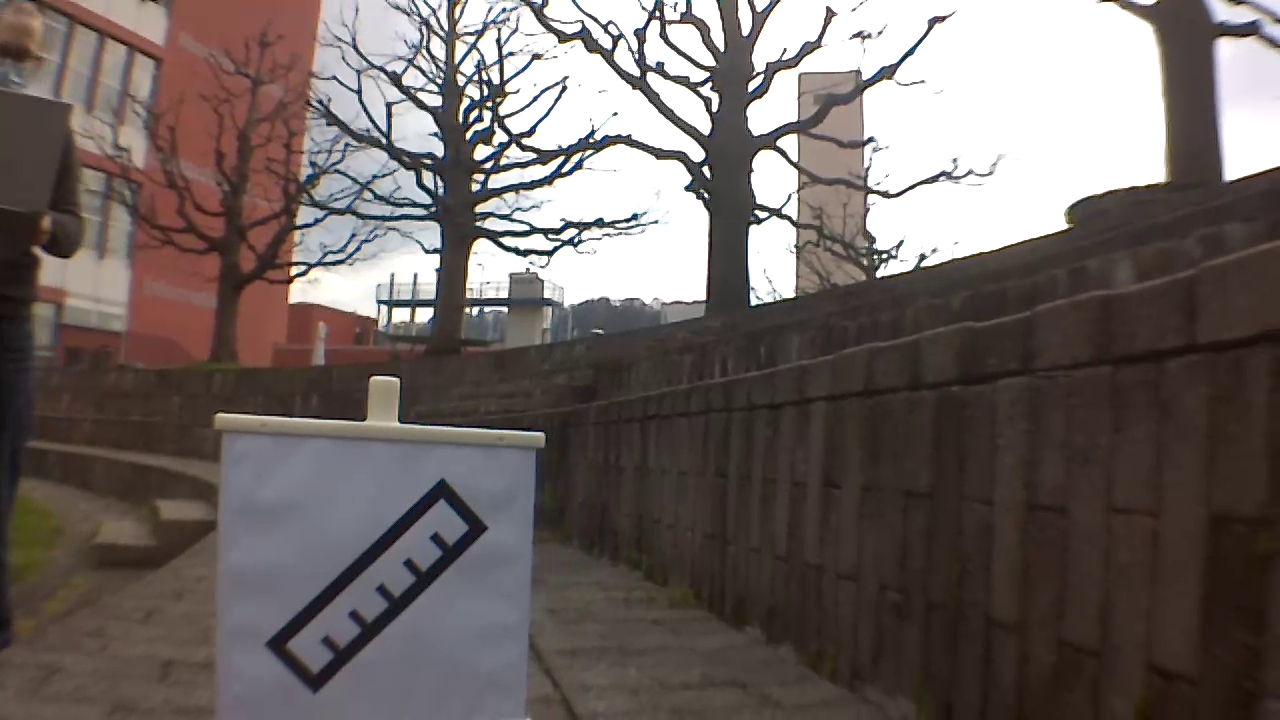ruler: (256, 473, 496, 698)
